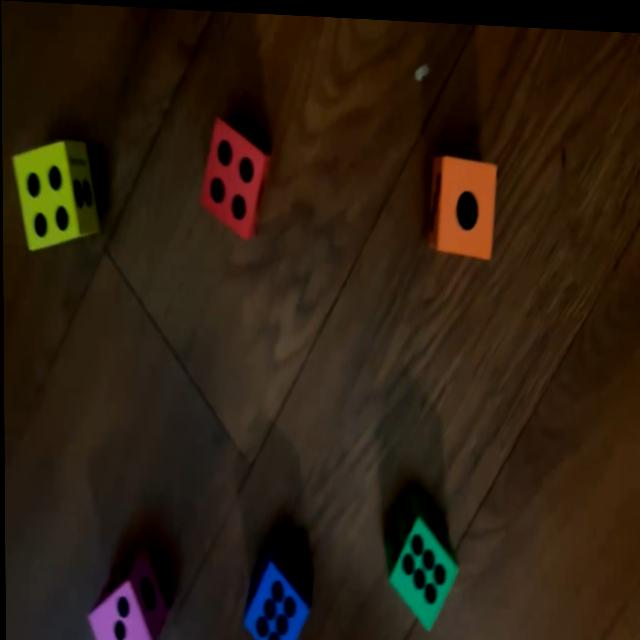cube: (384, 485, 458, 627), (198, 113, 271, 239), (243, 528, 309, 640)
